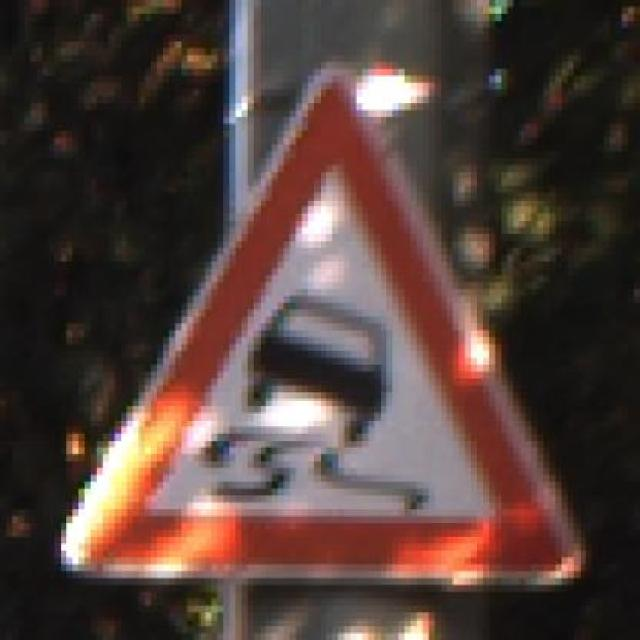Slippery Road Ahead: (54, 62, 586, 592)
